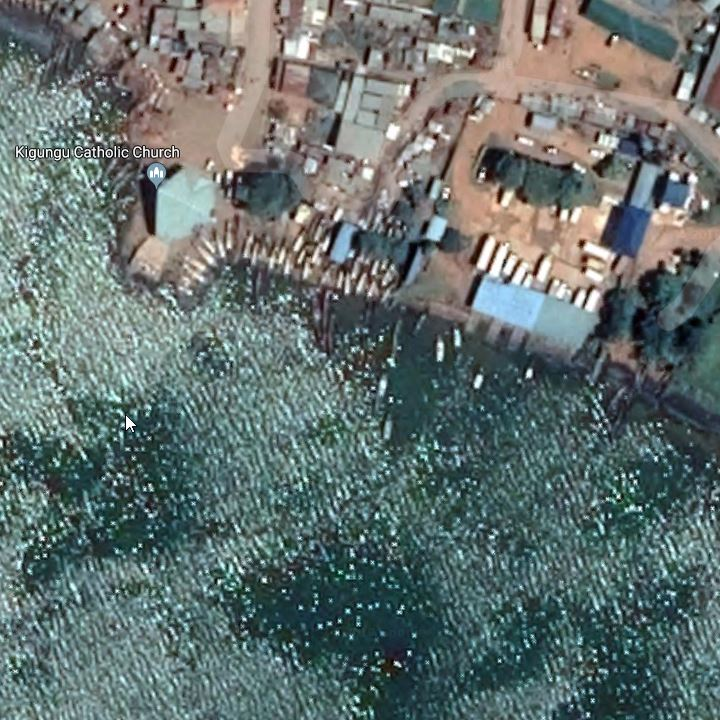boat: (306, 290, 324, 347), (316, 284, 332, 346), (590, 345, 610, 388), (191, 239, 220, 268), (246, 267, 268, 303), (177, 261, 212, 283), (381, 405, 399, 447), (449, 315, 467, 356), (327, 306, 340, 360), (411, 302, 429, 341), (430, 332, 447, 372), (165, 283, 201, 301), (221, 215, 236, 258), (182, 252, 210, 275), (520, 358, 542, 386), (240, 227, 255, 266), (248, 235, 262, 275), (374, 373, 389, 408), (258, 232, 271, 272), (301, 252, 314, 287), (215, 231, 229, 263), (383, 261, 398, 290), (471, 370, 487, 397), (198, 231, 213, 259), (291, 225, 305, 254), (355, 271, 369, 298), (332, 262, 343, 296), (278, 236, 289, 269), (341, 270, 352, 302), (350, 258, 363, 283), (297, 245, 309, 272), (321, 228, 332, 257), (267, 239, 277, 270), (370, 258, 383, 280), (284, 247, 292, 282)
